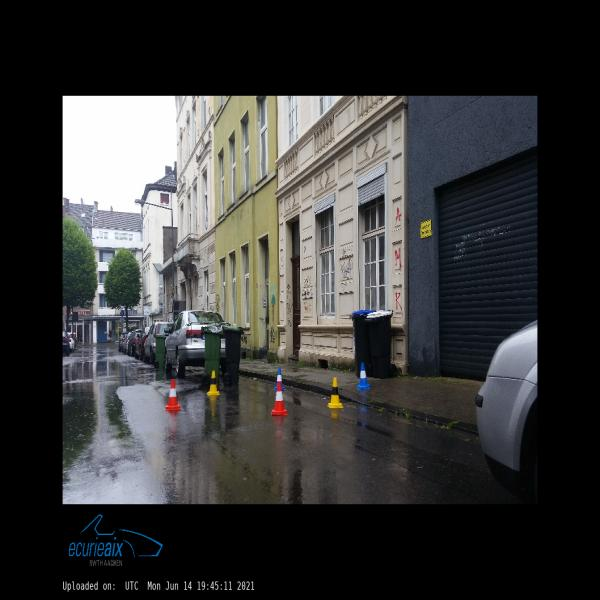blue_cone: (357, 363, 370, 390), (274, 368, 286, 391)
orange_cone: (271, 382, 287, 414), (166, 379, 180, 410)
yellow_cone: (328, 378, 343, 408), (207, 370, 220, 395)
